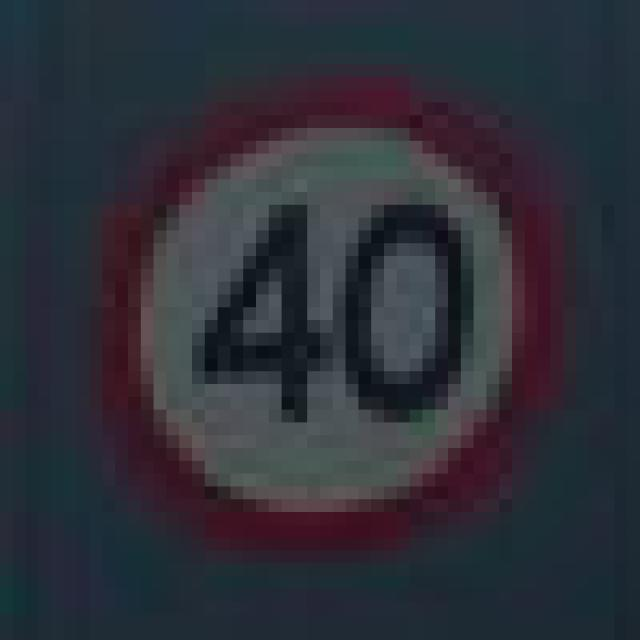falling_rocks: (64, 76, 563, 538)
